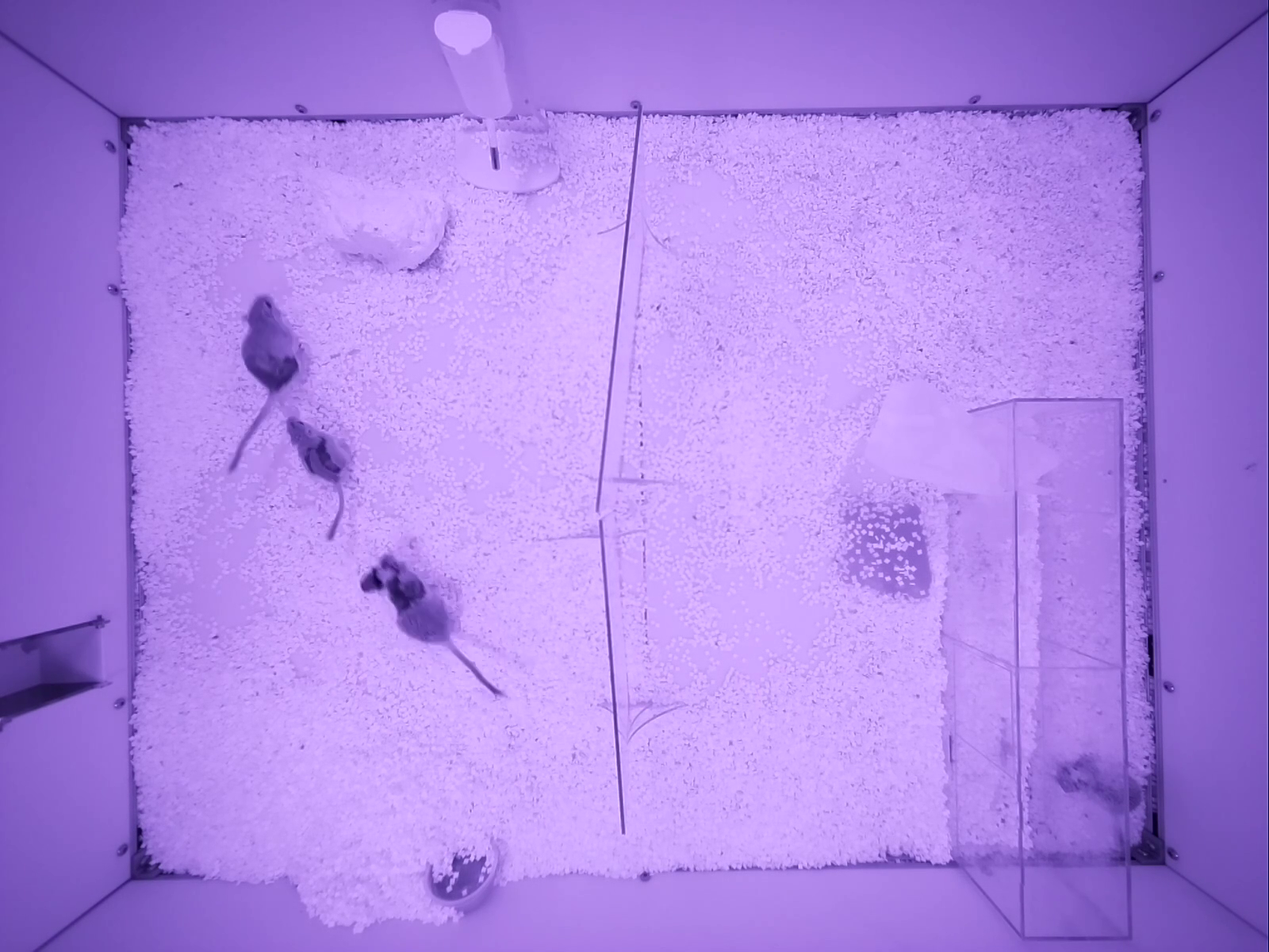adult_back: (361, 555, 504, 695), (231, 295, 299, 471), (287, 416, 350, 538), (1056, 754, 1141, 812)
